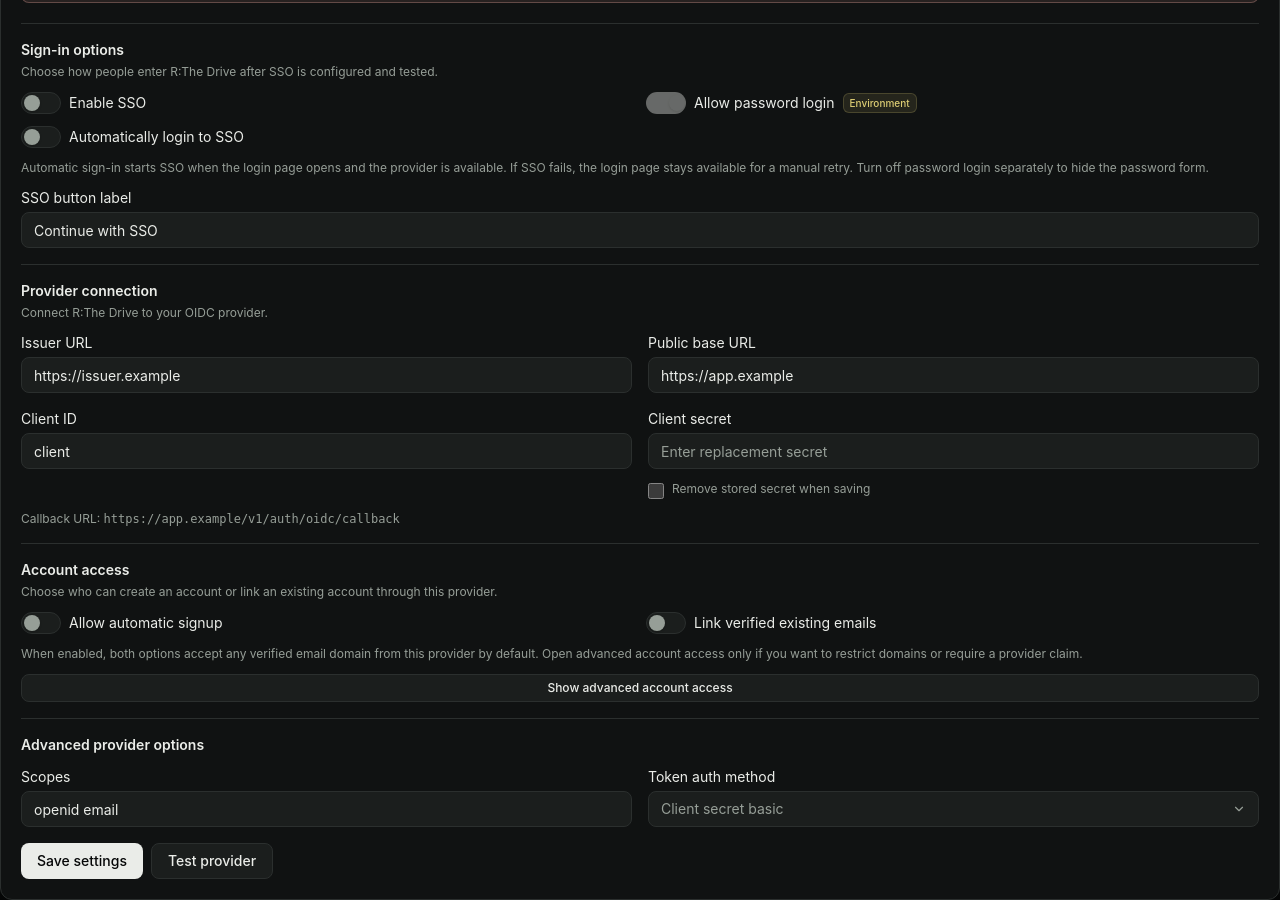
Scenario: AuthenticationSection › shows validation feedback after a successful provider test
(page scrolled)
Click the button "Test provider" at (212, 861), box [151,843,273,879]
(page scrolled)
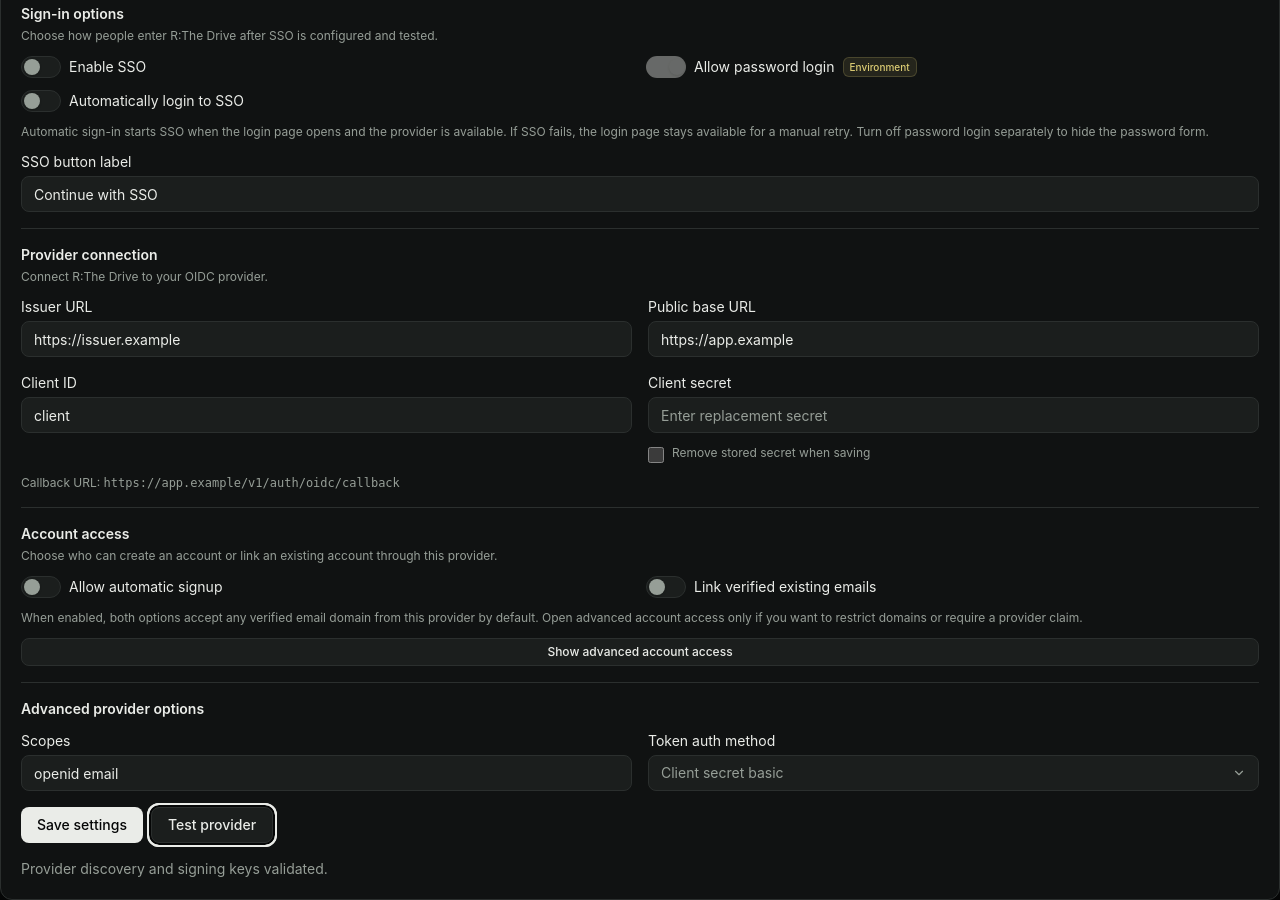
expect the message shows "validated": met, box [21,860,328,877]
